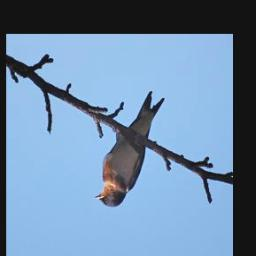Swallow: (95, 91, 165, 208)
